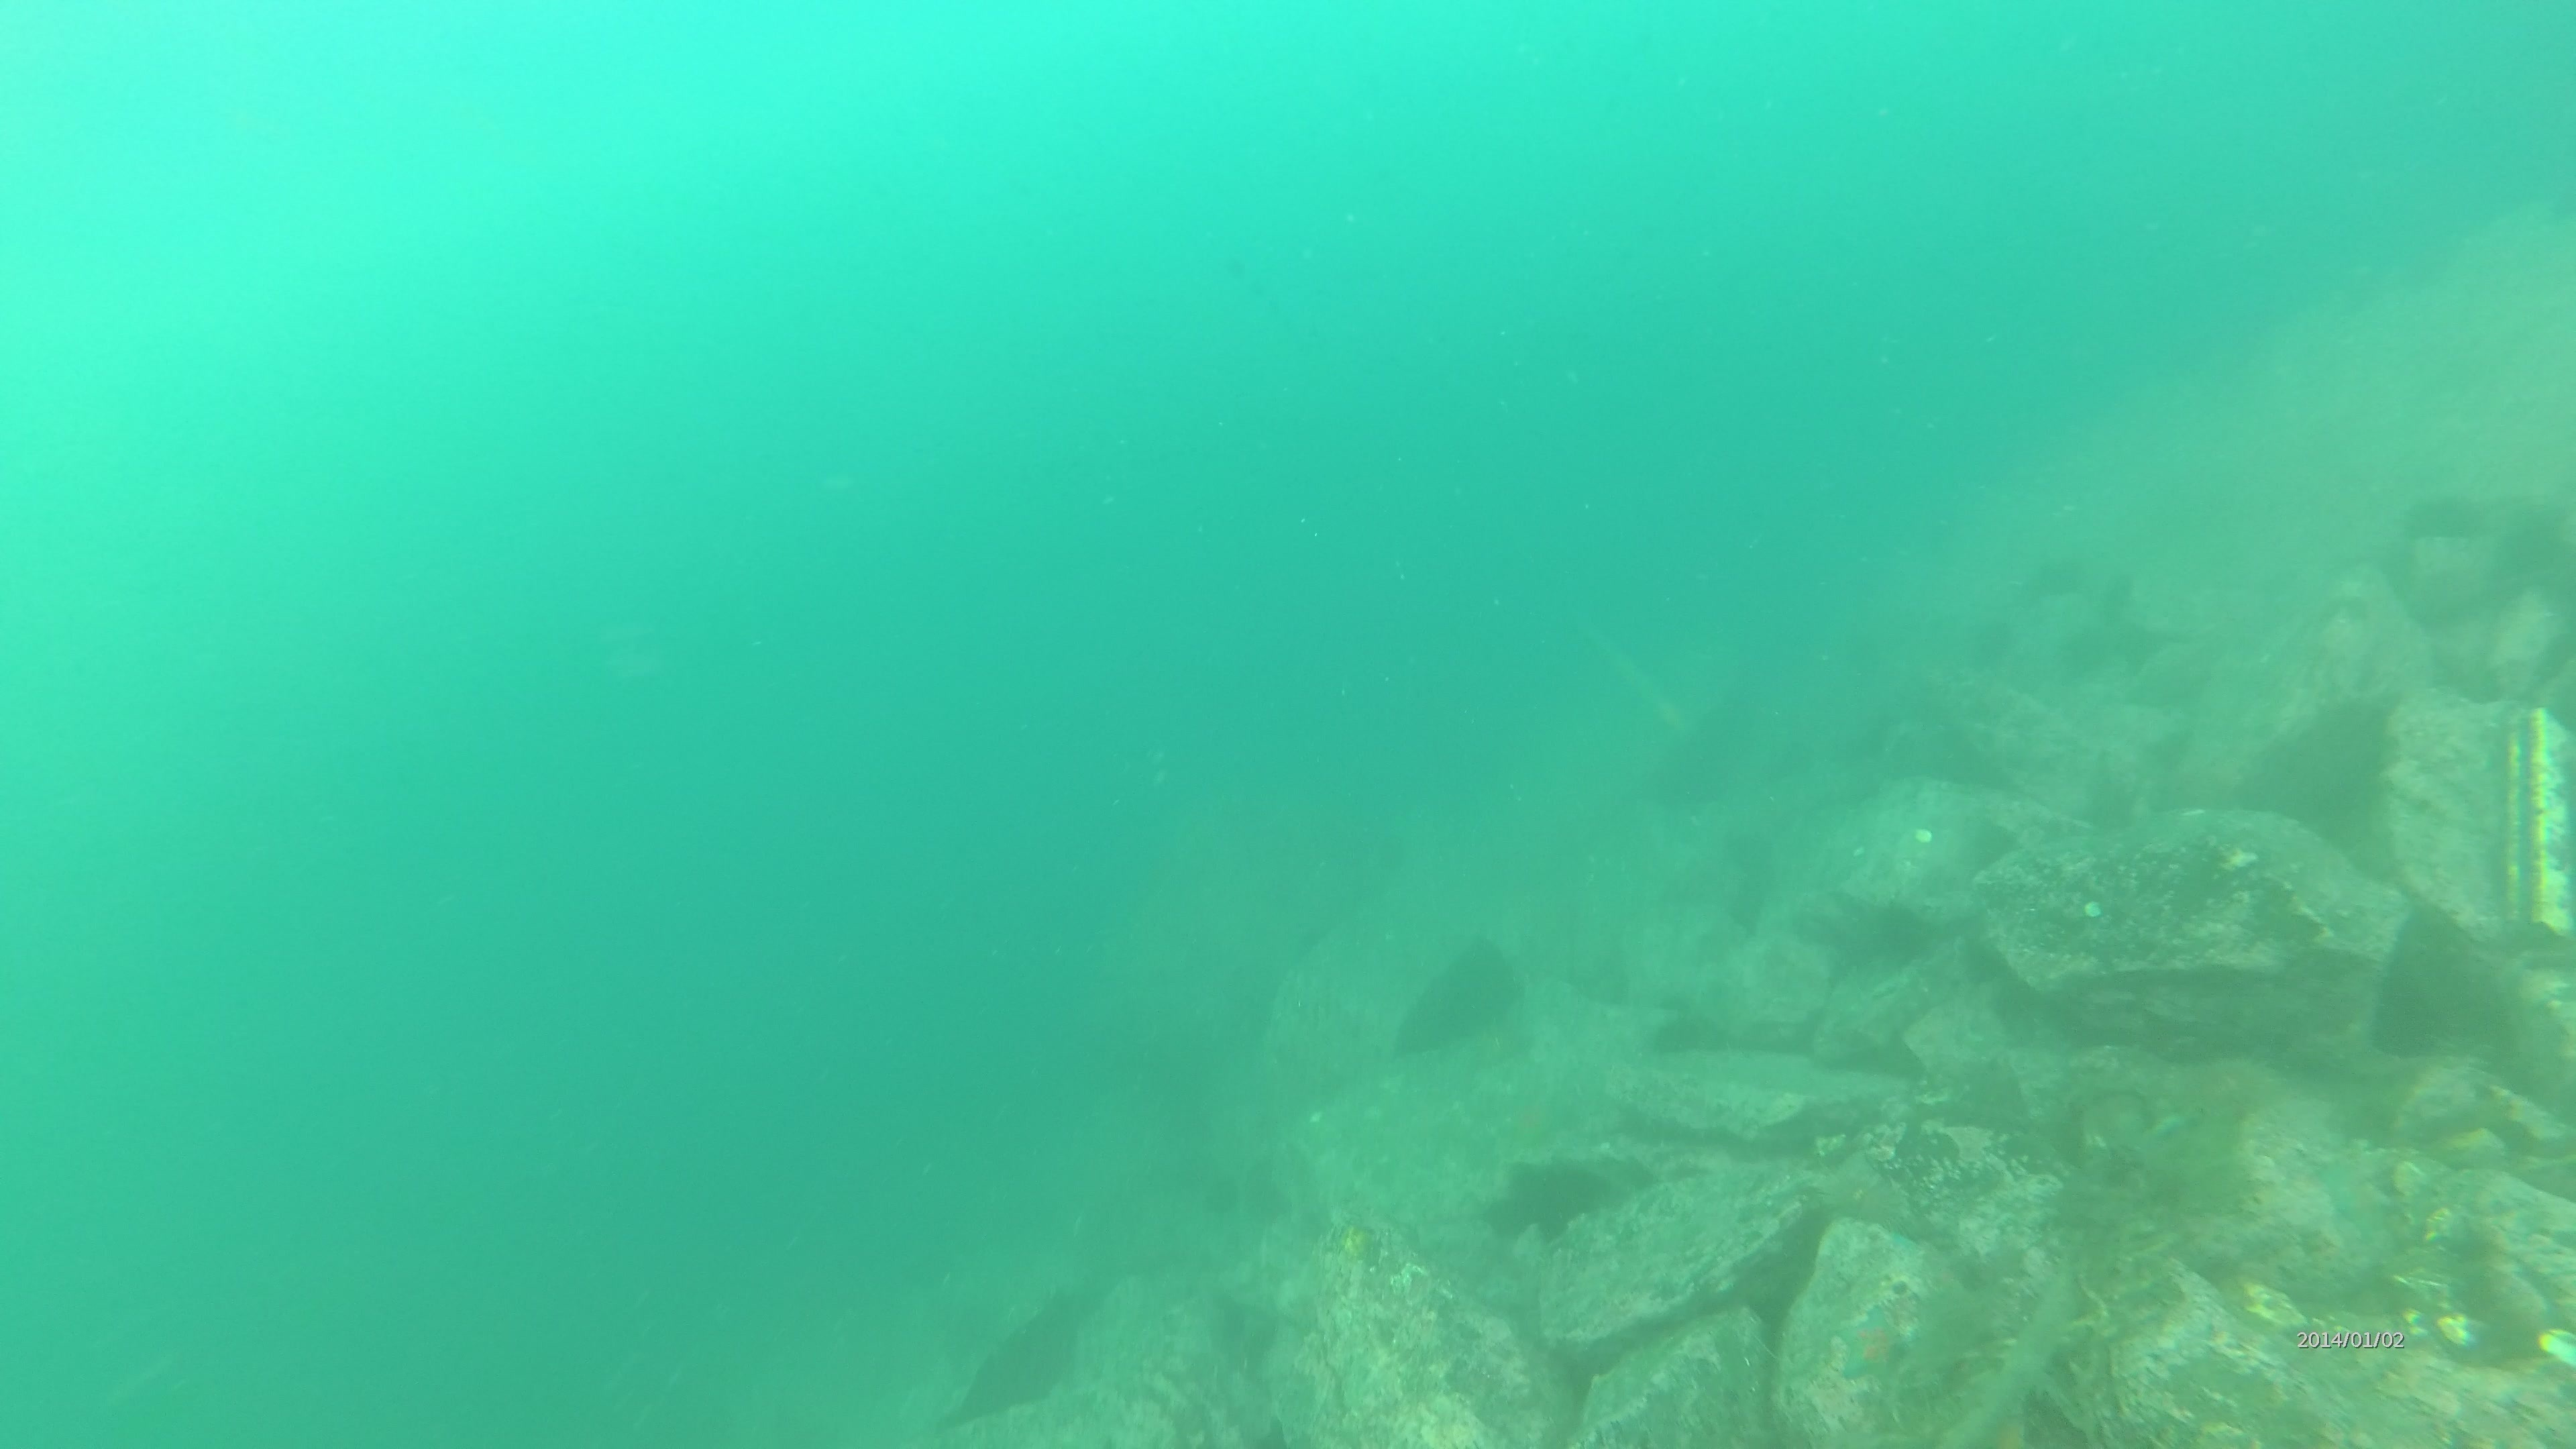starfish: (1824, 1299, 1921, 1391)
